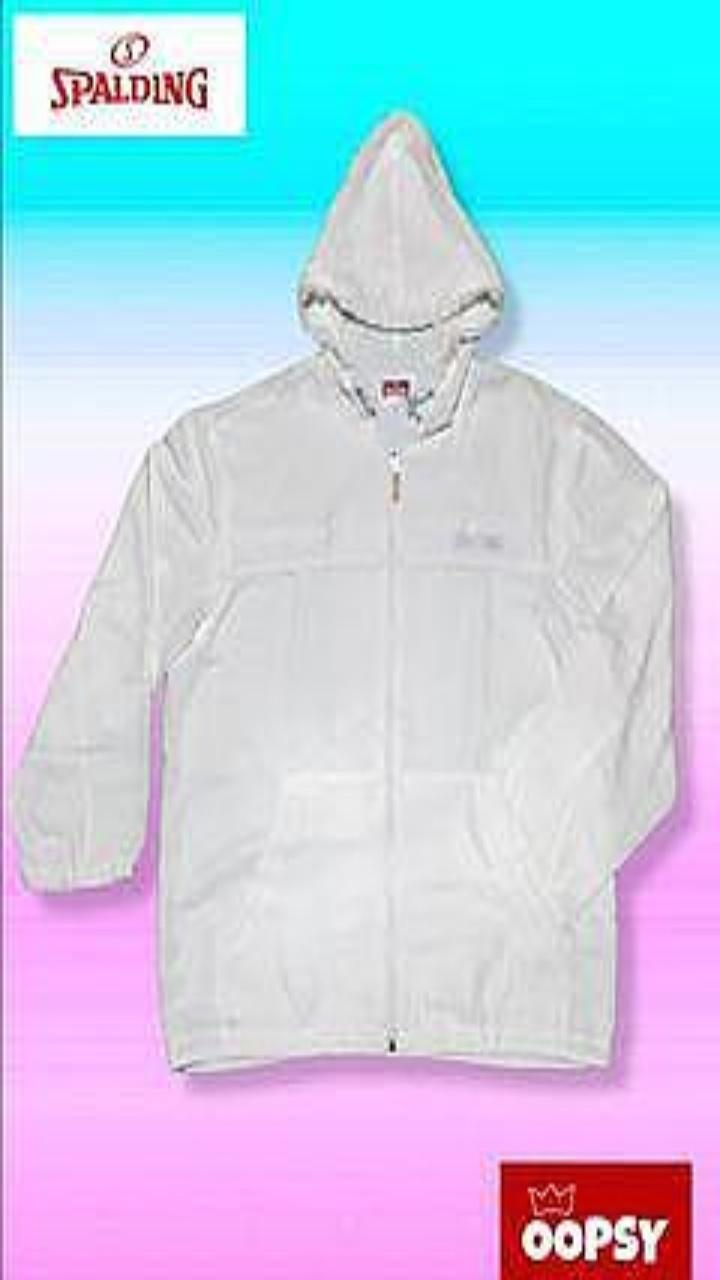Sports_Jacket: (10, 112, 676, 1069)
